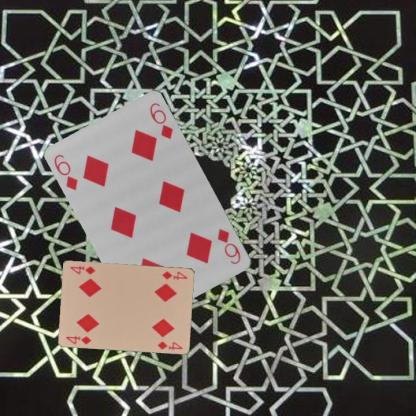4d: (160, 268, 189, 281), (64, 333, 92, 345)
6d: (51, 151, 80, 192), (215, 226, 243, 266)
